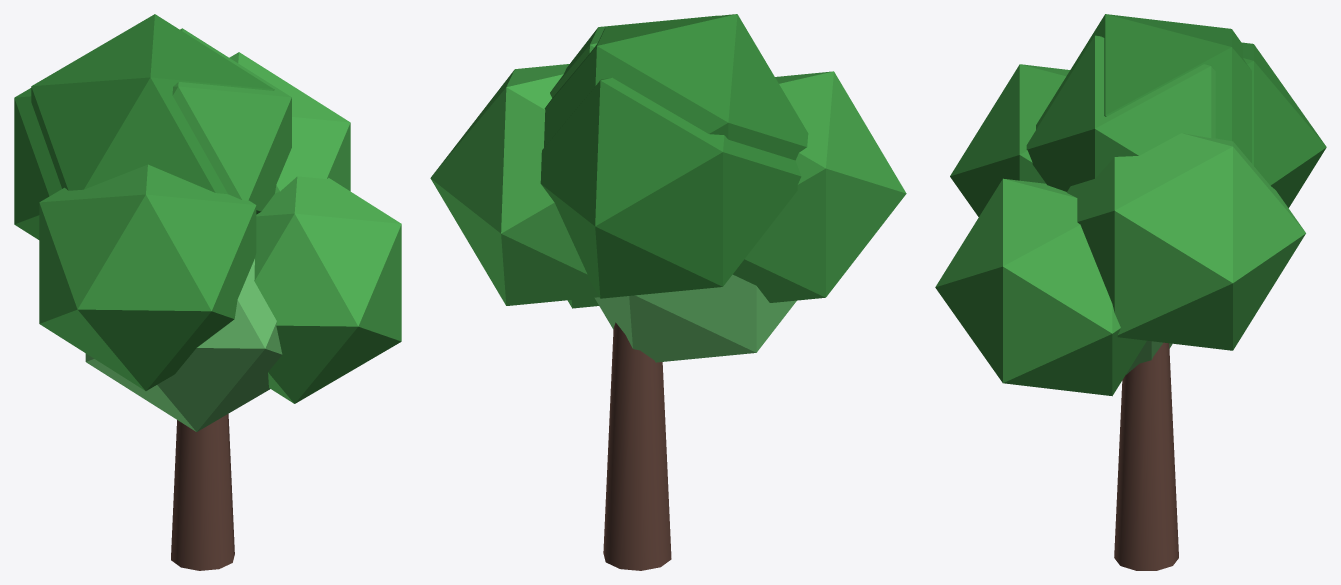
The model's file is tree_round.fbx.
3 views of the same model, side by side, from view 1: azimuth 30°, elevation 25°; view 2: azimuth 150°, elevation 25°; view 3: azimuth 270°, elevation 25° (orthographic). The views are drawn at different scales.
Parts seen in each view (by area): view 1: Oak Tree.001; view 2: Oak Tree.001; view 3: Oak Tree.001.
Boxes of the visible parts, <box> form: Oak Tree.001: <box>14,14,401,570</box>; Oak Tree.001: <box>430,14,906,570</box>; Oak Tree.001: <box>935,14,1326,570</box>.
Bounding box in the file's own units: 3.36 × 4.84 × 3.38.
